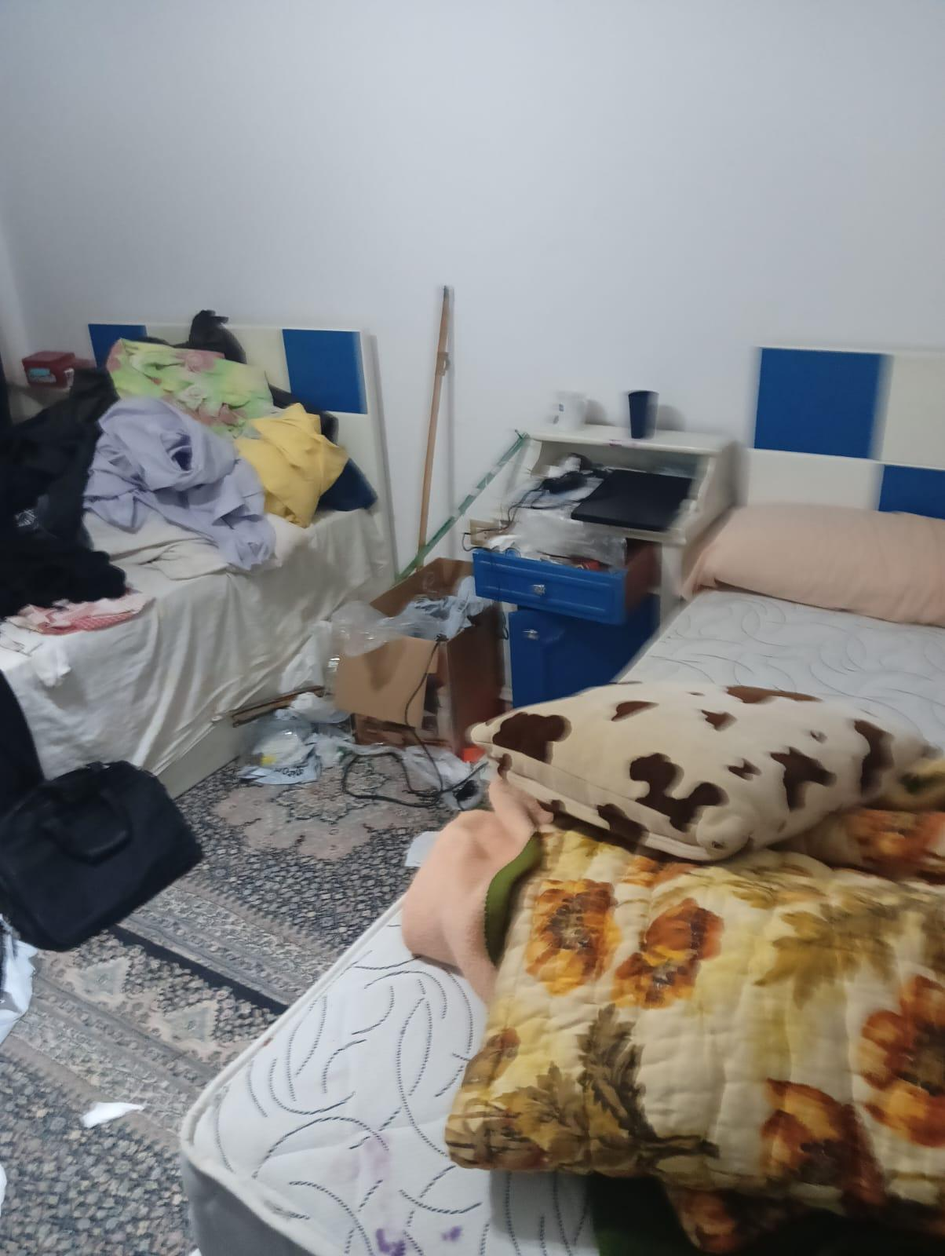cup: (628, 390, 657, 439), (552, 391, 587, 430)
